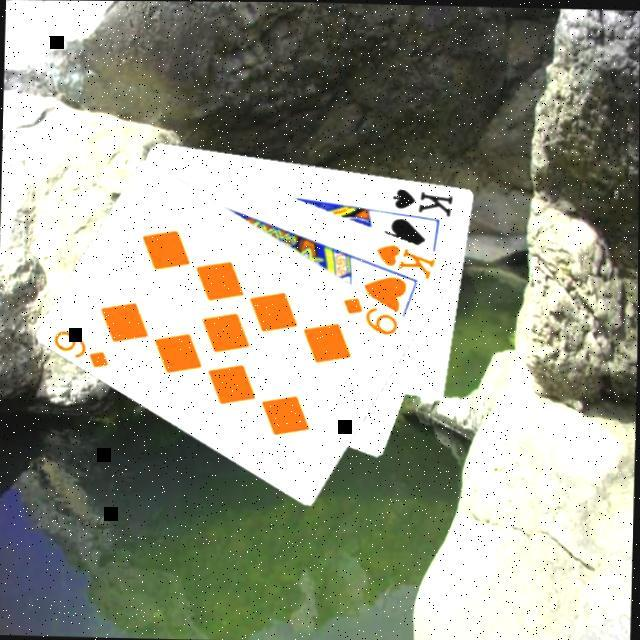9D: (48, 324, 112, 369), (338, 291, 401, 336)
KH: (371, 237, 438, 280)
KS: (388, 182, 455, 217)
